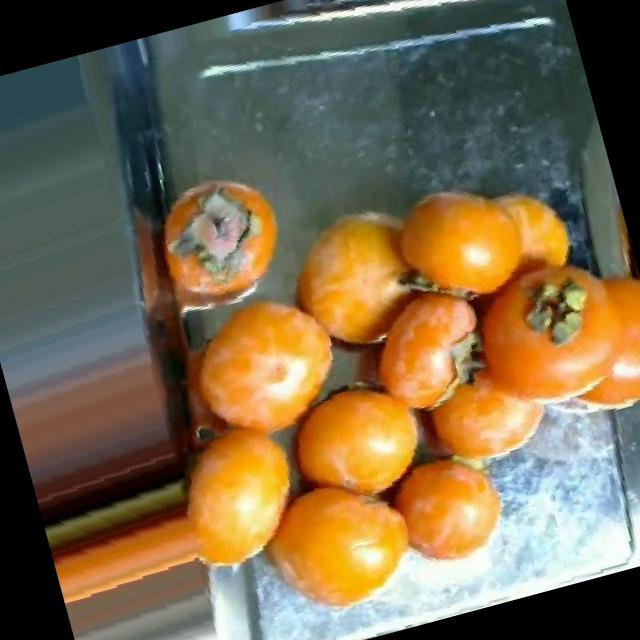Fruit: (0, 296, 231, 524), (358, 138, 608, 342), (140, 270, 370, 468), (142, 400, 334, 595), (253, 353, 450, 529), (358, 433, 534, 593), (143, 151, 295, 278)
